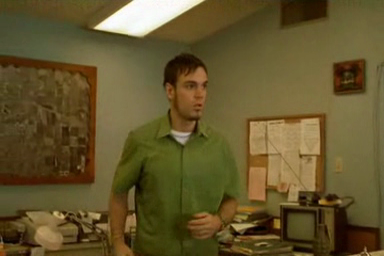face: (179, 71, 208, 120)
ms: (1, 1, 384, 256)
person: (108, 52, 242, 256)
